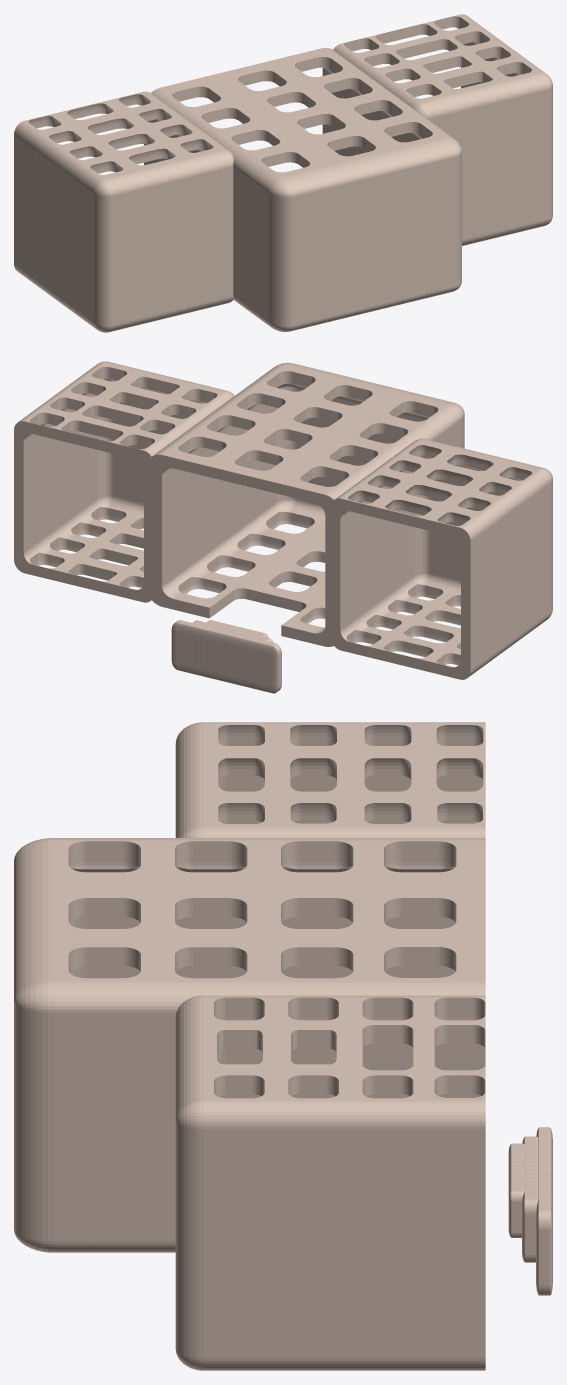
Rendered from tinker.obj.
3 views of the same model, one above another, from view 1: azimuth 30°, elevation 25°; view 2: azimuth 150°, elevation 25°; view 3: azimuth 270°, elevation 25° (orthographic). The views are drawn at different scales.
Visible parts, largest first — view 1: obj_0; view 2: obj_0; view 3: obj_0.
Part boxes in pixels (left/top/right/bottom): obj_0: left=14, top=14, right=552, bottom=332; obj_0: left=14, top=361, right=552, bottom=693; obj_0: left=14, top=722, right=552, bottom=1370.
Bounding box in the file's own units: 126 × 51.2 × 73.
